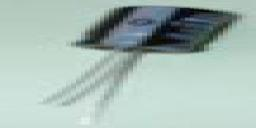Electrolytic-Capacitor: (48, 5, 242, 128)
